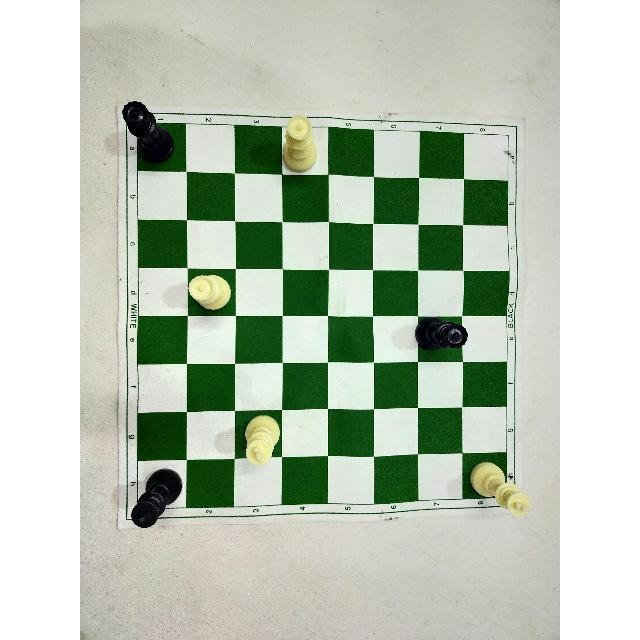black-king: (126, 463, 187, 530), (125, 469, 184, 531)
black-queen: (122, 93, 180, 169), (121, 97, 177, 167), (410, 311, 472, 362), (416, 313, 470, 355)
white-king: (463, 458, 534, 524), (466, 458, 532, 517), (234, 410, 284, 478), (242, 412, 284, 472)
white-queen: (182, 267, 240, 325), (277, 108, 322, 179), (279, 112, 318, 174), (184, 271, 234, 314)
